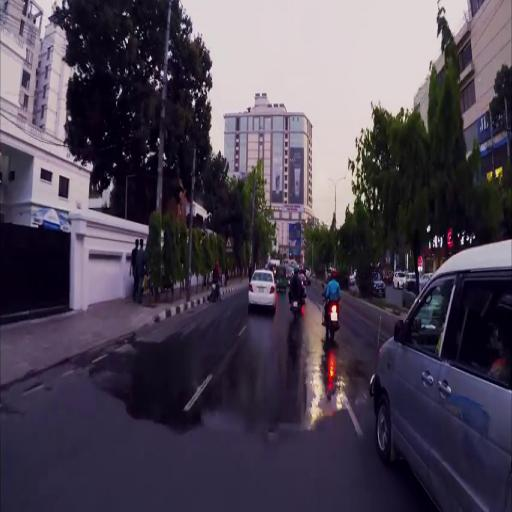car: (249, 269, 277, 307), (373, 271, 387, 296), (393, 271, 407, 288)
minivan: (374, 241, 512, 510)
motorbike: (322, 285, 340, 339), (289, 277, 304, 322)
three wheelers (CNG): (276, 266, 288, 290)
